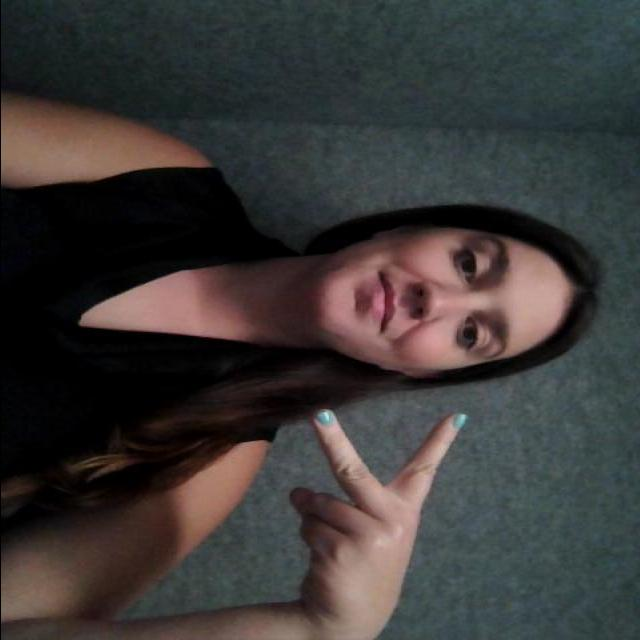Scissors: (232, 383, 476, 636)
